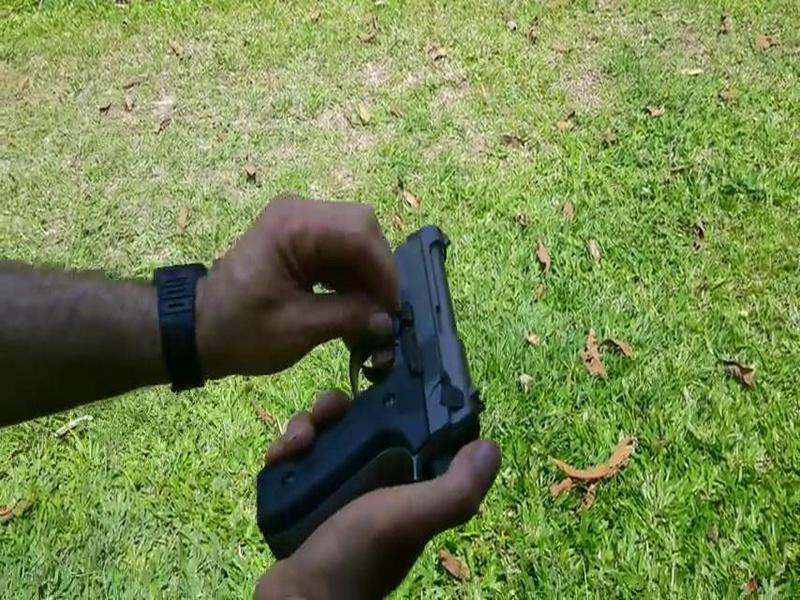Pistola: (281, 221, 496, 499)
